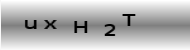2: (103, 23, 116, 37)
H: (72, 19, 88, 34)
T: (121, 13, 136, 27)
u: (24, 19, 37, 30)
x: (43, 20, 57, 29)
